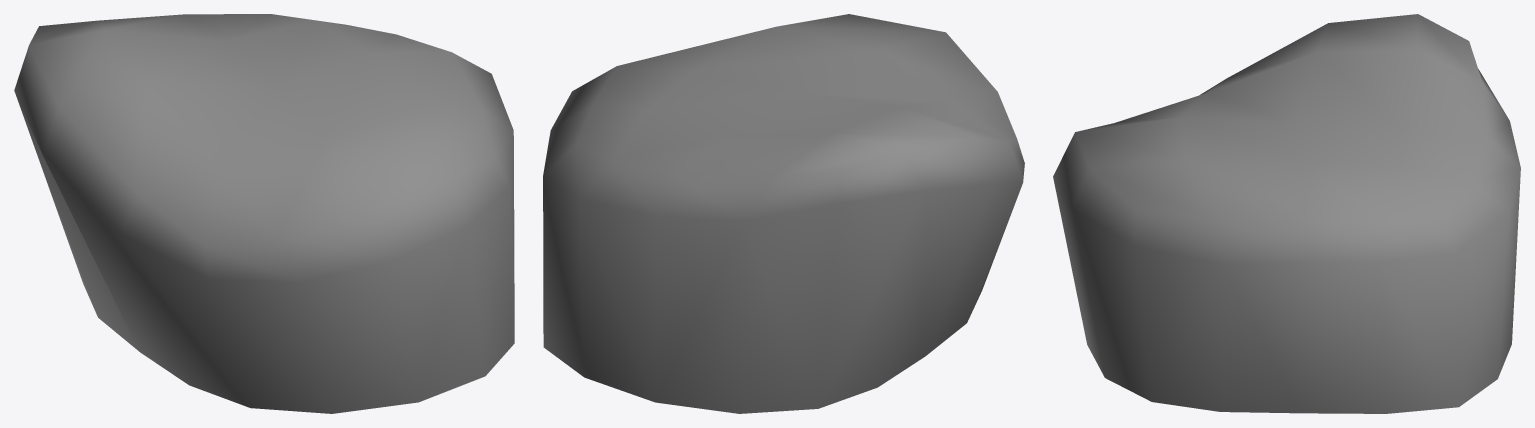
File: StoneDesert_2.fbx
3 renders of one model, left to right at view 1: azimuth 30°, elevation 25°; view 2: azimuth 150°, elevation 25°; view 3: azimuth 270°, elevation 25°, orthographic. The views are drawn at different scales.
Parts seen in each view (by area): view 1: StoneDesert2; view 2: StoneDesert2; view 3: StoneDesert2.
Boxes of the visible parts, box(x1,y1,x2,y2) form: StoneDesert2: box(14, 14, 514, 413); StoneDesert2: box(543, 14, 1024, 413); StoneDesert2: box(1053, 14, 1520, 413).
Size of the model in its own units: 2.73 by 1.61 by 2.82.
